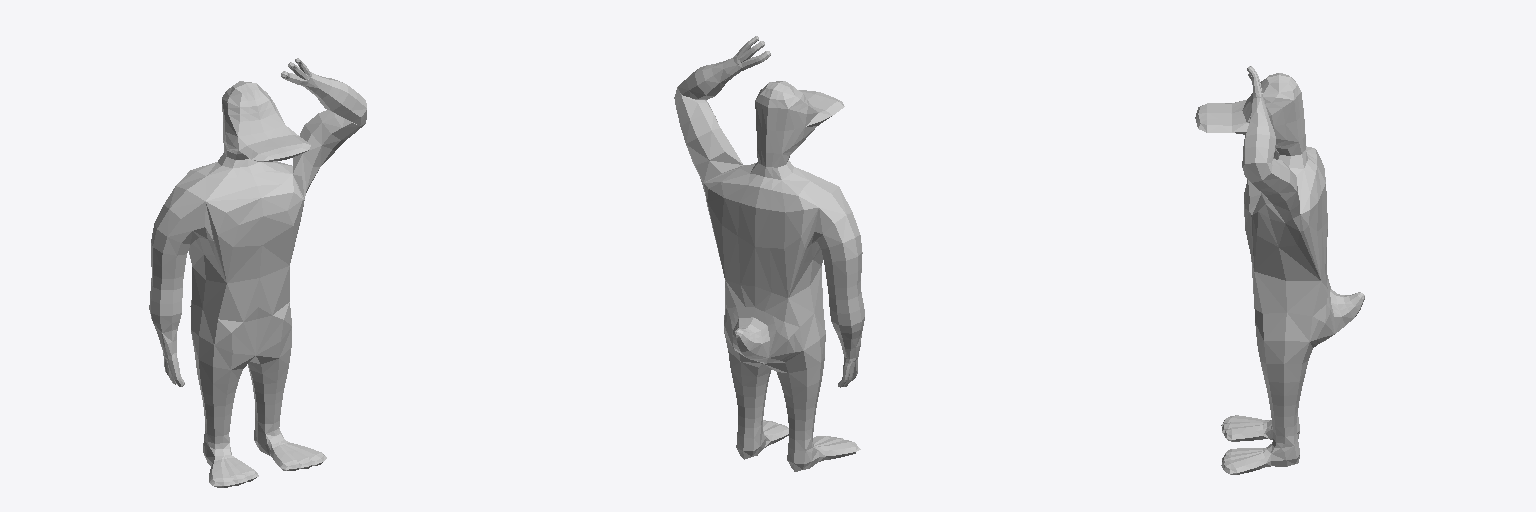
The model's file is canard_000013.obj.
3 renders of one model, left to right at view 1: azimuth 30°, elevation 25°; view 2: azimuth 150°, elevation 25°; view 3: azimuth 270°, elevation 25°, orthographic.
Visible parts, largest first — view 1: Cube; view 2: Cube; view 3: Cube.
Boxes of the visible parts, box(x1,y1,x2,y2) form: Cube: box(149, 58, 366, 487); Cube: box(674, 36, 864, 471); Cube: box(1195, 66, 1364, 474).
Bounding box in the file's own units: 1.54 × 2.99 × 1.14.